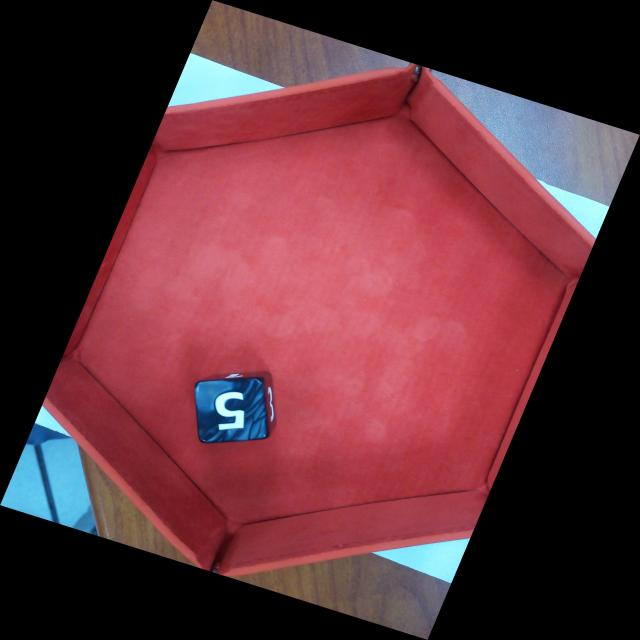dice: (194, 377, 269, 444)
